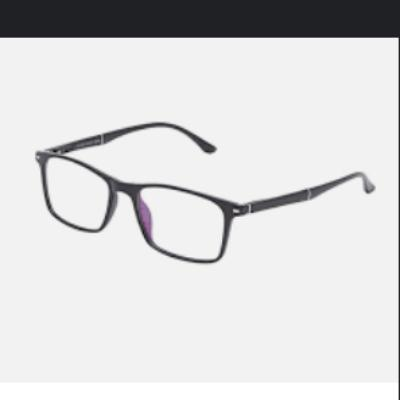glasses: (33, 120, 379, 268)
